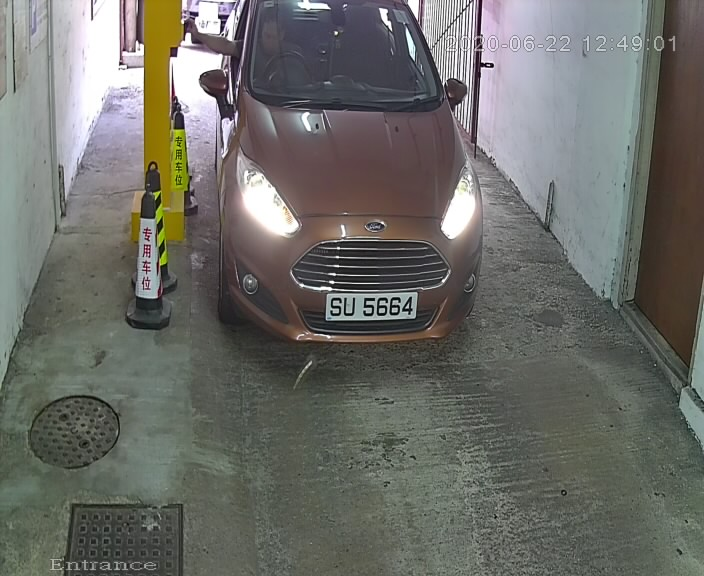privatecar: (189, 2, 486, 355)
